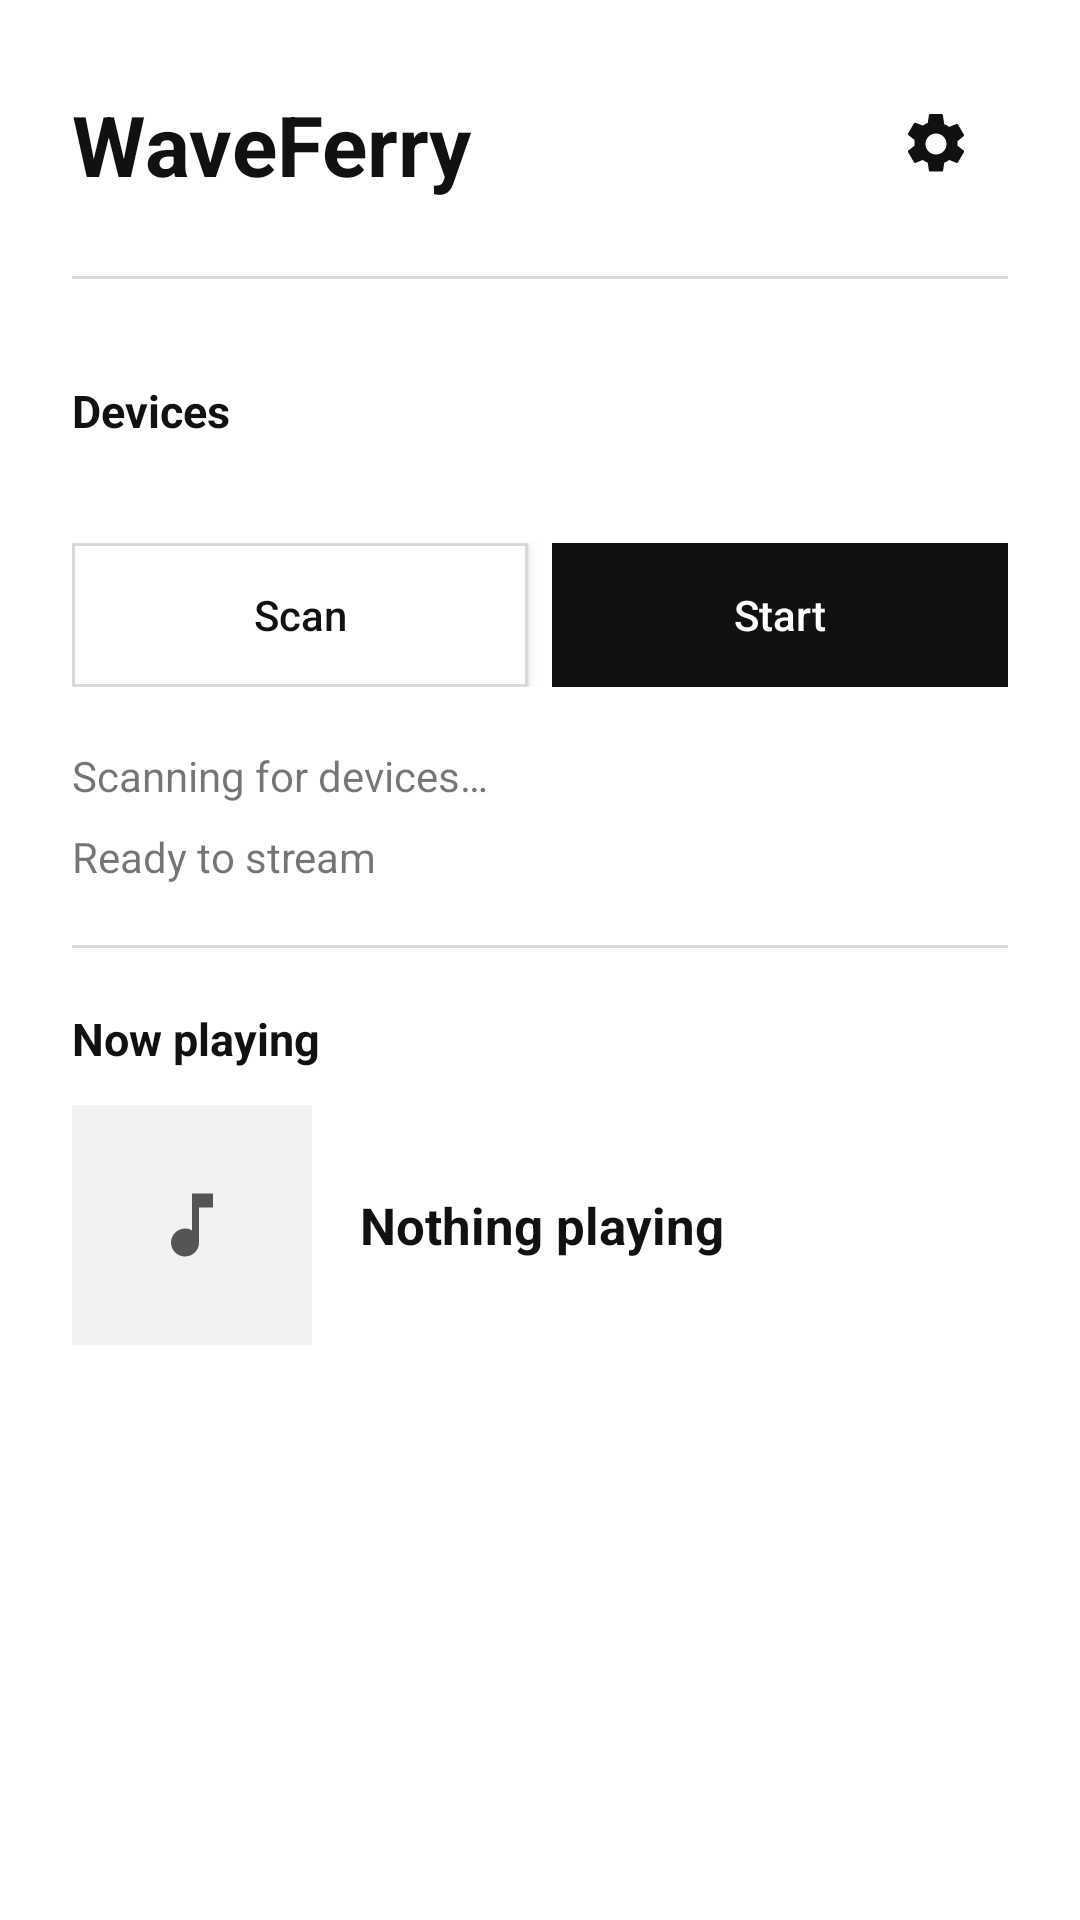

Icon bounding boxes for this 1080w x 1920h phone screenshot, format Rect(x1, y1, x2, y2):
music note: Rect(171, 1193, 213, 1257)
Open settings: Rect(908, 114, 964, 172)
